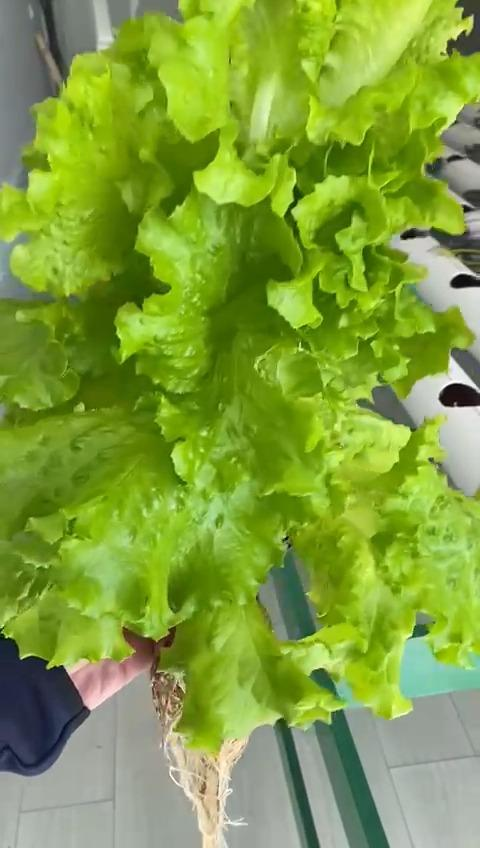Healthy: (0, 0, 480, 754)
